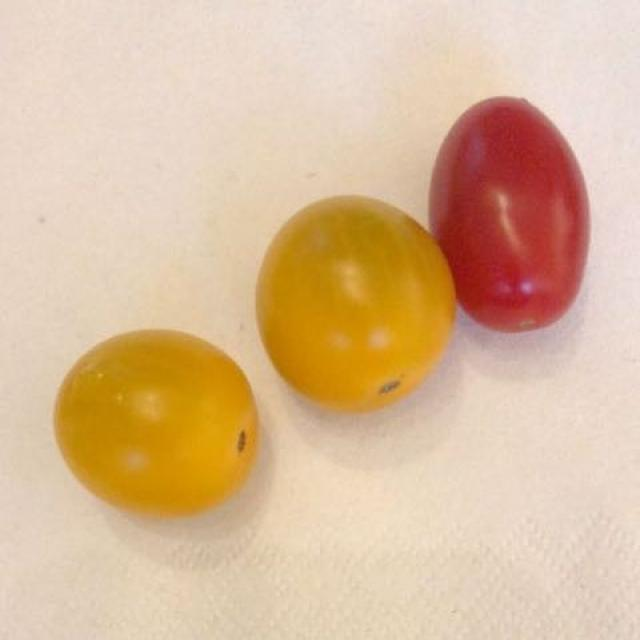tomato: (54, 73, 586, 514)
